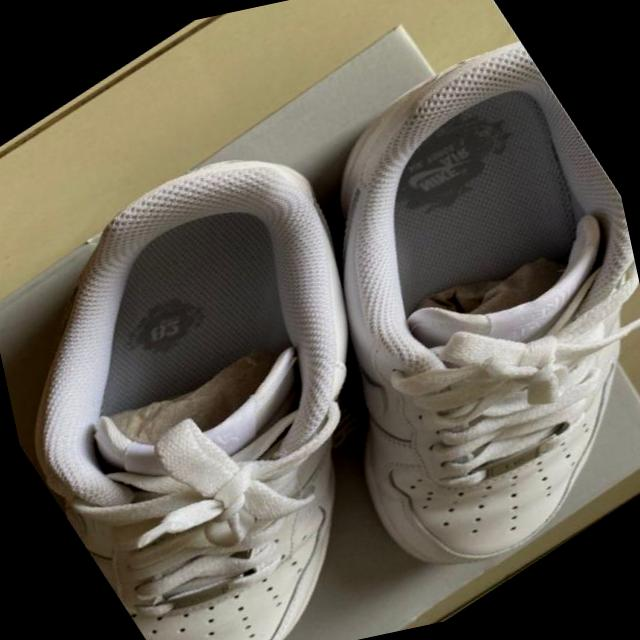nike_original_airforce: (0, 75, 541, 640), (160, 9, 640, 640)
